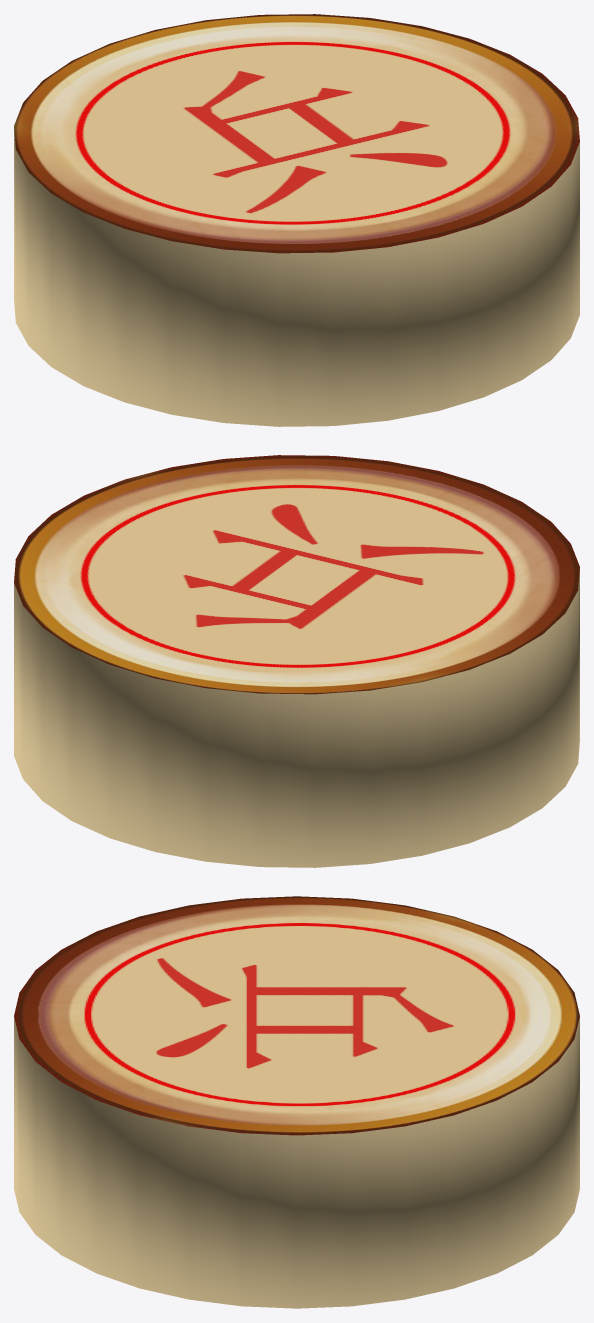
The model's file is tot_do.fbx.
3 renders of one model, top to bottom at view 1: azimuth 30°, elevation 25°; view 2: azimuth 150°, elevation 25°; view 3: azimuth 270°, elevation 25°, orthographic.
Visible parts, largest first — view 1: Cylinder.005; view 2: Cylinder.005; view 3: Cylinder.005.
Boxes of the visible parts, box(x1,y1,x2,y2) form: Cylinder.005: box(14, 14, 579, 426); Cylinder.005: box(14, 455, 579, 867); Cylinder.005: box(14, 896, 579, 1308).
Size of the model in its own units: 200 by 67.52 by 200.
